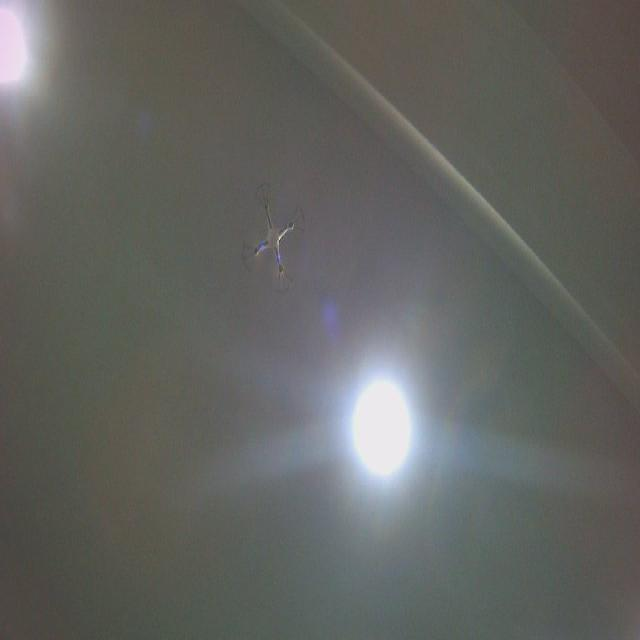drone: (239, 180, 308, 298)
